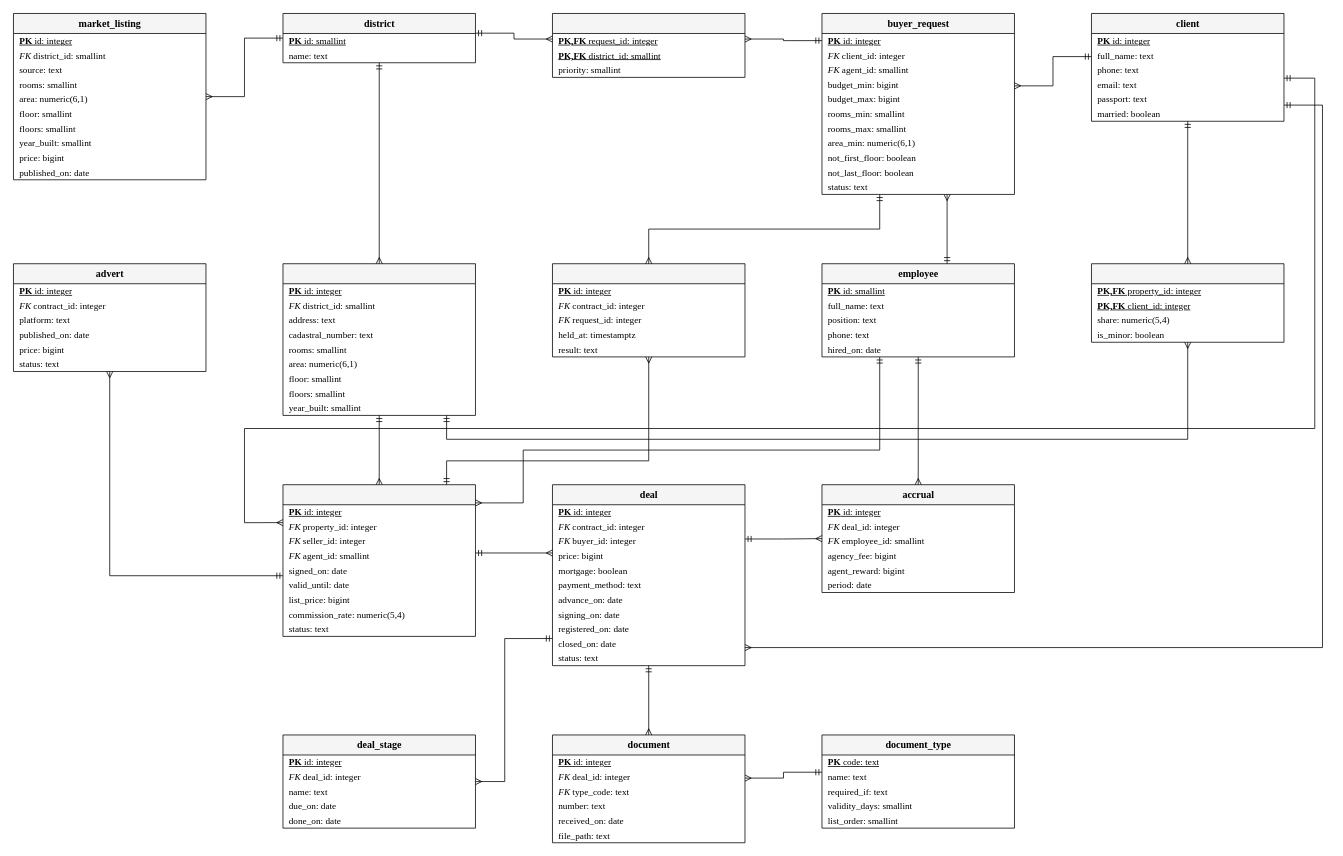
This 1343x856 diagram has some shape labels left out. Here are the shapes that lost their labels. From the top down, the box of each, then its label:
(552, 13, 745, 77): request_district
(552, 263, 745, 357): viewing
(1091, 263, 1284, 342): property_owner
(282, 263, 475, 415): property
(282, 484, 475, 636): seller_contract
